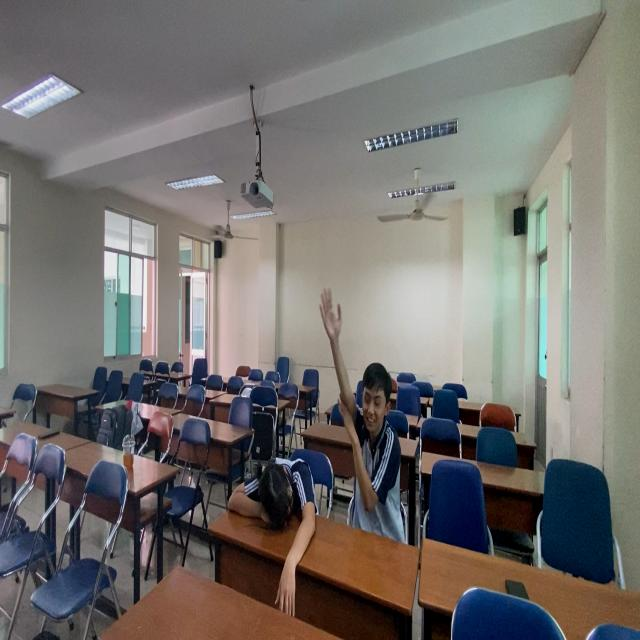raise_hand: (326, 308, 403, 555)
sleep: (227, 448, 323, 588)
